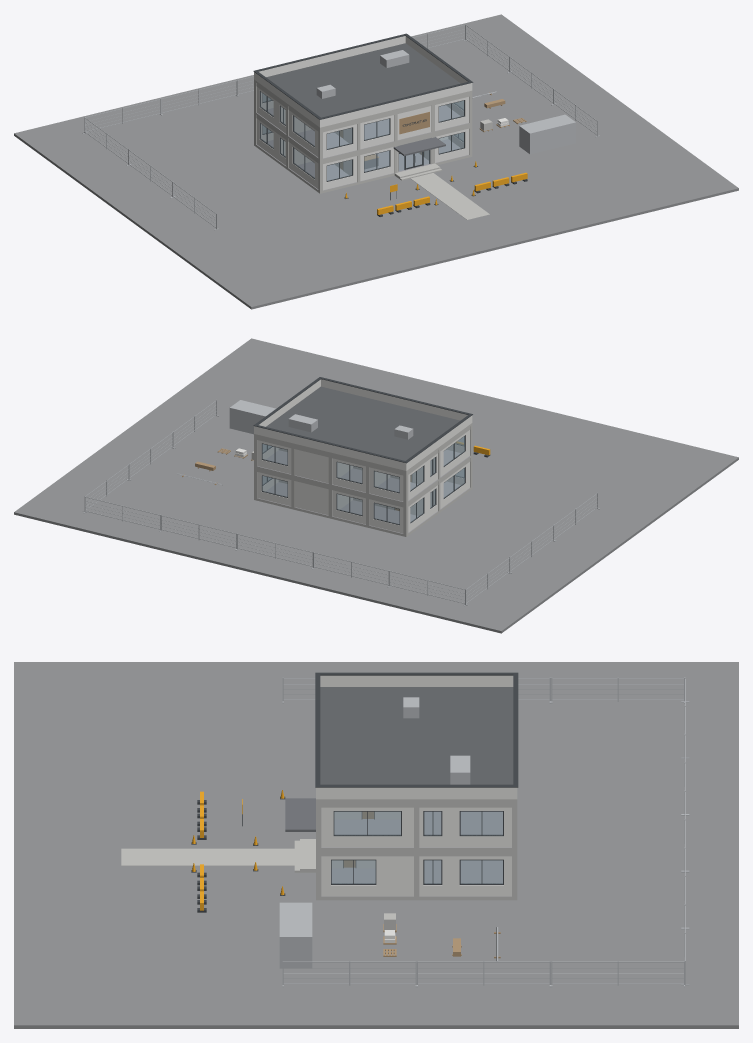
Rendered from CONSTRUCT-XR_Building.fbx.
The picture shows the model from 3 angles, top to bottom: view 1: azimuth 30°, elevation 25°; view 2: azimuth 150°, elevation 25°; view 3: azimuth 270°, elevation 25°; orthographic projection. The views are drawn at different scales.
Visible parts, largest first — view 1: SITE_Ground, ROOF_Main, ROOF_Parapet, STR_FloorSlab_G01, ENV_Container_01, STR_FloorSlab_G02, SITE_EntrancePath, ROOF_ParapetCap, STR_RoofSlab, ARC_EntranceCanopy_G01, ARC_Wall_G01_10, ARC_Wall_G02_10 (+7 smaller); view 2: SITE_Ground, ROOF_Main, ROOF_Parapet, STR_FloorSlab_G01, STR_FloorSlab_G02, ROOF_ParapetCap, ENV_Container_01, ARC_Wall_G01_07, ARC_Wall_G02_07, STR_RoofSlab, ARC_Wall_G02_05, ARC_Wall_G01_08 (+6 smaller); view 3: SITE_Ground, ROOF_Main, ROOF_Parapet, STR_FloorSlab_G02, STR_FloorSlab_G01, SITE_EntrancePath, ROOF_ParapetCap, ARC_Wall_G01_11, ENV_Container_01, ARC_Wall_G01_12, ARC_Wall_G02_12, ARC_Wall_G02_11 (+11 smaller).
Part boxes in pixels (x1,y1,x2,y2): SITE_Ground: (14, 14, 738, 309); ROOF_Main: (266, 43, 460, 117); ROOF_Parapet: (254, 36, 472, 127); STR_FloorSlab_G01: (254, 139, 472, 193); ENV_Container_01: (519, 114, 575, 154); STR_FloorSlab_G02: (254, 105, 472, 161); SITE_EntrancePath: (410, 173, 489, 219); ROOF_ParapetCap: (253, 33, 473, 119); STR_RoofSlab: (254, 79, 472, 129); ARC_EntranceCanopy_G01: (393, 137, 445, 156); ARC_Wall_G01_10: (256, 118, 286, 165); ARC_Wall_G02_10: (256, 87, 286, 133); SITE_Ground: (14, 338, 738, 633); ROOF_Main: (266, 386, 460, 460); ROOF_Parapet: (254, 379, 472, 470); STR_FloorSlab_G01: (254, 481, 472, 536); STR_FloorSlab_G02: (254, 449, 472, 504); ROOF_ParapetCap: (253, 377, 472, 463); ENV_Container_01: (229, 400, 275, 434); ARC_Wall_G01_07: (295, 481, 328, 515); ARC_Wall_G02_07: (295, 449, 328, 483); STR_RoofSlab: (254, 423, 472, 472); ARC_Wall_G02_05: (369, 467, 403, 501); ARC_Wall_G01_08: (257, 472, 291, 505); SITE_Ground: (14, 662, 738, 1028); ROOF_Main: (320, 687, 513, 784); ROOF_Parapet: (316, 675, 517, 799); STR_FloorSlab_G02: (316, 811, 517, 850); STR_FloorSlab_G01: (316, 860, 517, 900); SITE_EntrancePath: (121, 848, 294, 865); ROOF_ParapetCap: (315, 672, 518, 787); ARC_Wall_G01_11: (321, 856, 413, 896); ENV_Container_01: (279, 902, 312, 968); ARC_Wall_G01_12: (419, 856, 511, 896); ARC_Wall_G02_12: (419, 807, 511, 847); ARC_Wall_G02_11: (321, 807, 413, 847).
Bounding box in the file's own units: 64 × 54 × 9.66.
